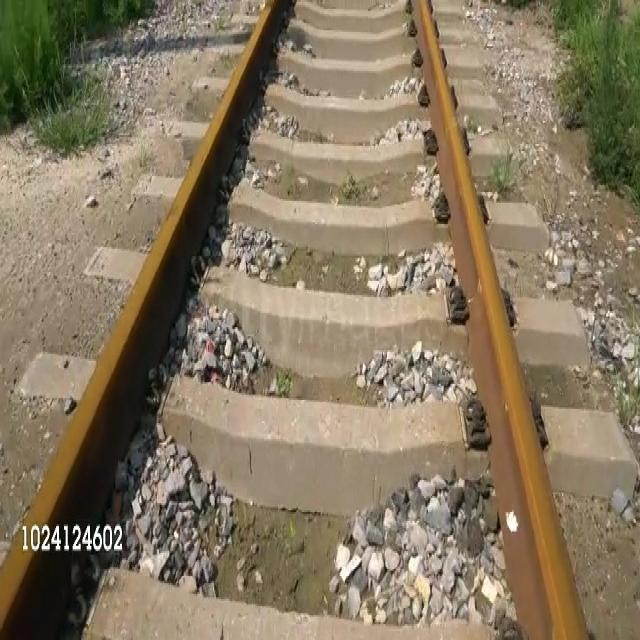Plant: (0, 0, 157, 131), (543, 0, 639, 210), (37, 97, 109, 150), (492, 153, 515, 190), (494, 0, 534, 6)
